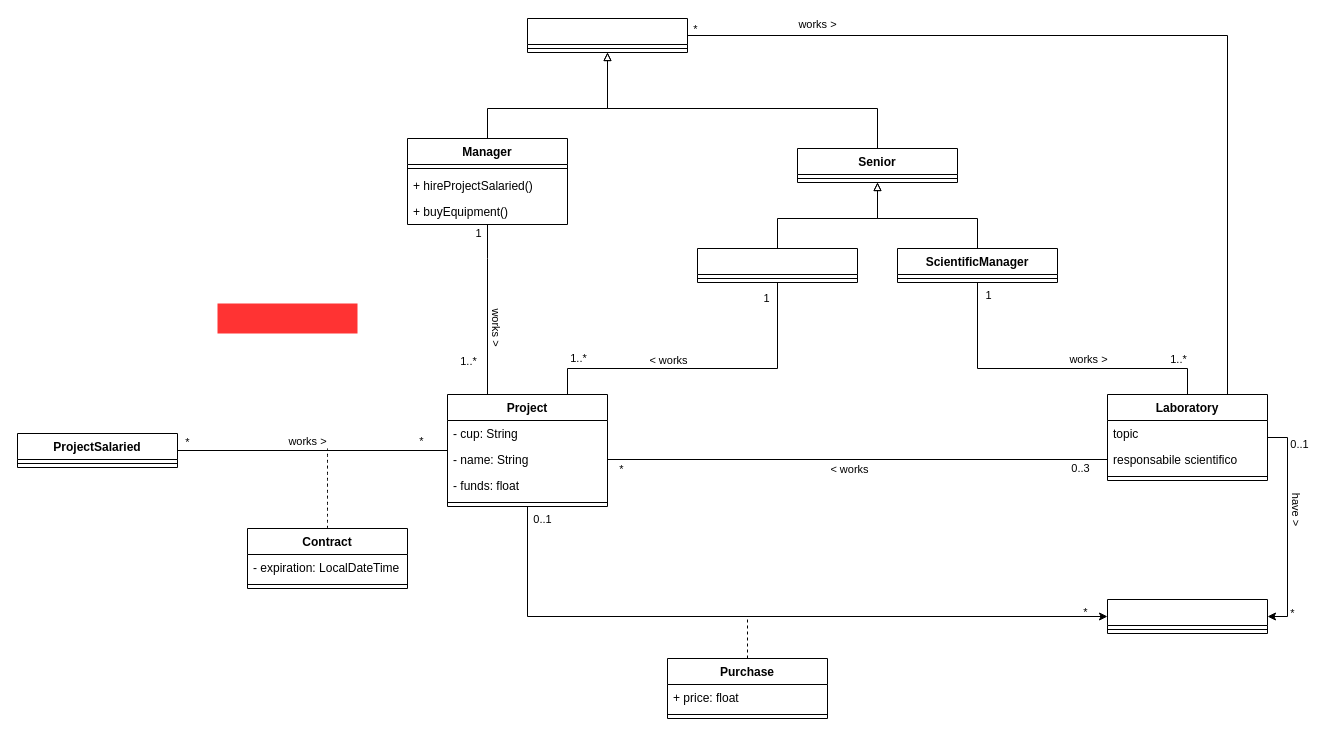
This 1325x736 diagram has some shape labels left out. The centre of each missing label's shape, as x and y in pixels:
BaseEmp: (x=607, y=35)
Equipment: (x=1187, y=616)
ScientificReferent: (x=777, y=265)
VEDERE GET E SET: (x=287, y=318)
